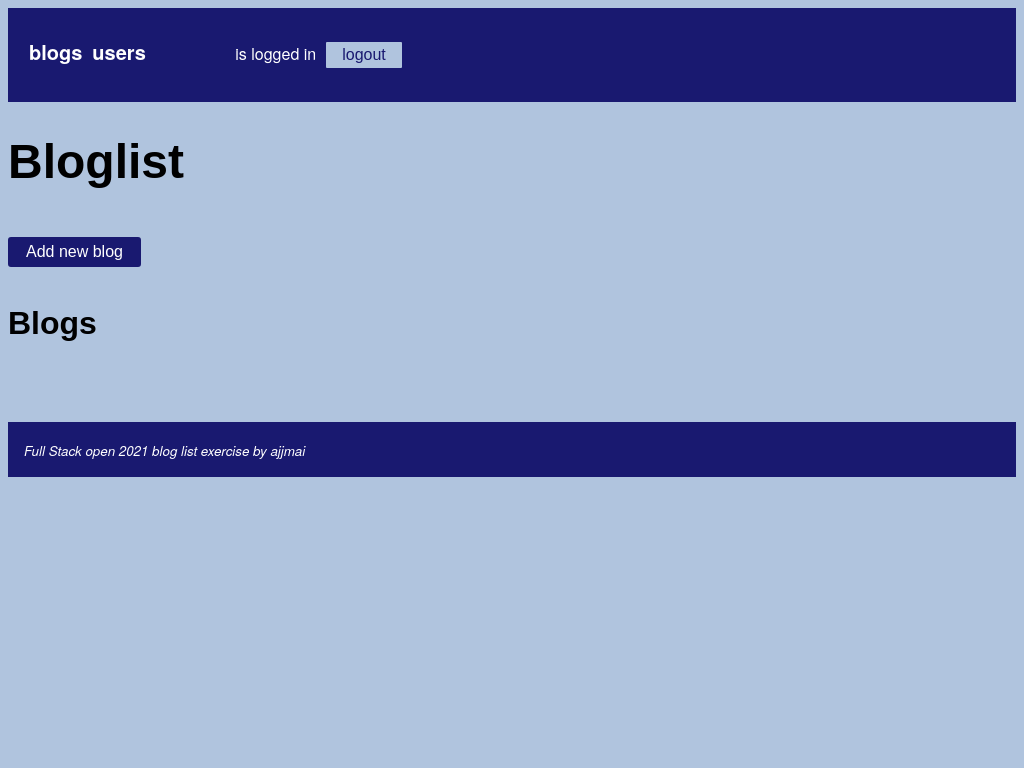
it: Blog app › When logged in › A blog can be created
The image size is (1024, 768).
Click the button "Add new blog" at (75, 252), box [8,237,141,267]
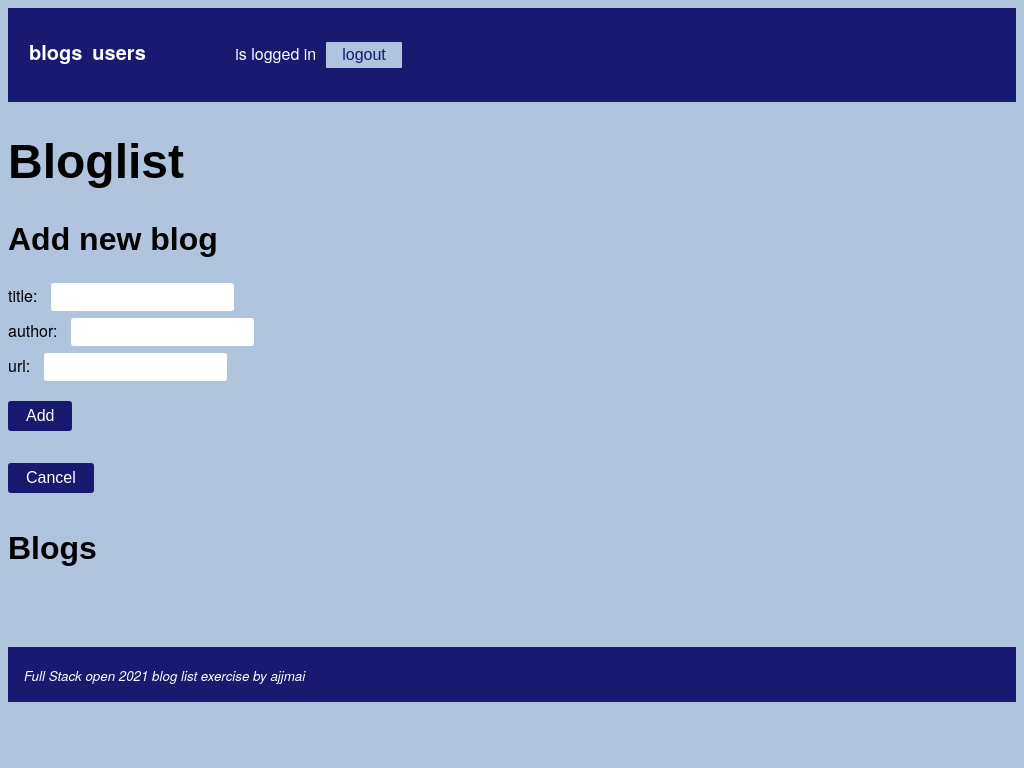
Type "React patterns" into the field named "Title" next to "title:" at (143, 297), box [51,283,235,311]
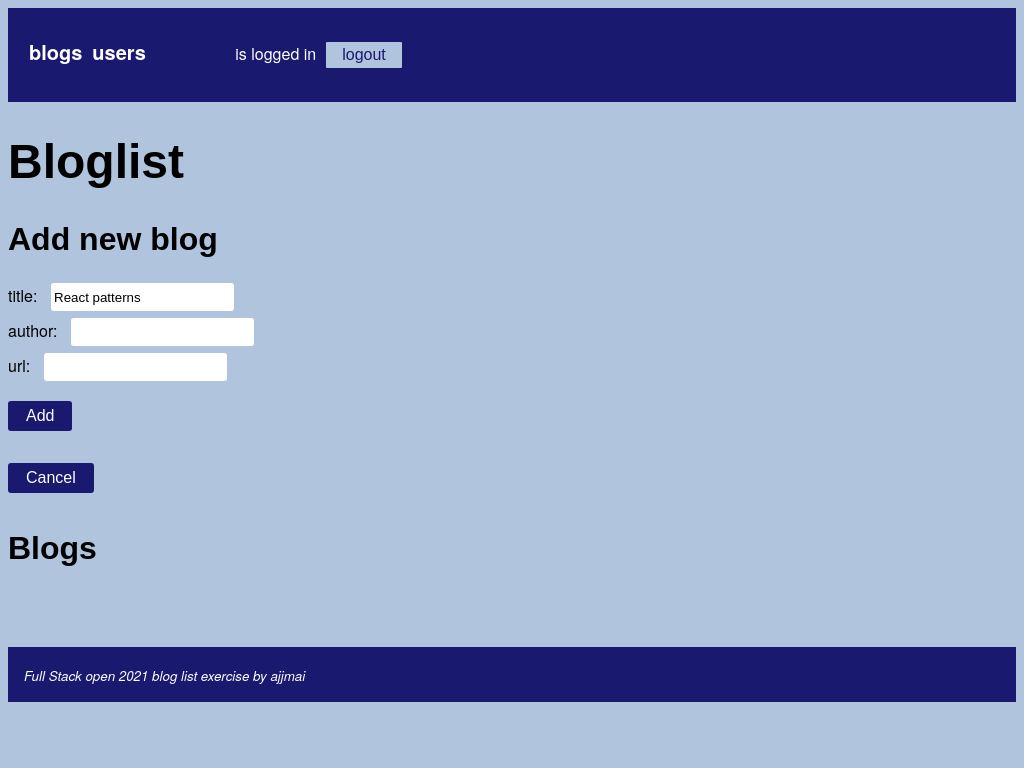
Type "Michael Chan" into the field named "Author" next to "author:" at (163, 332), box [71,318,255,346]
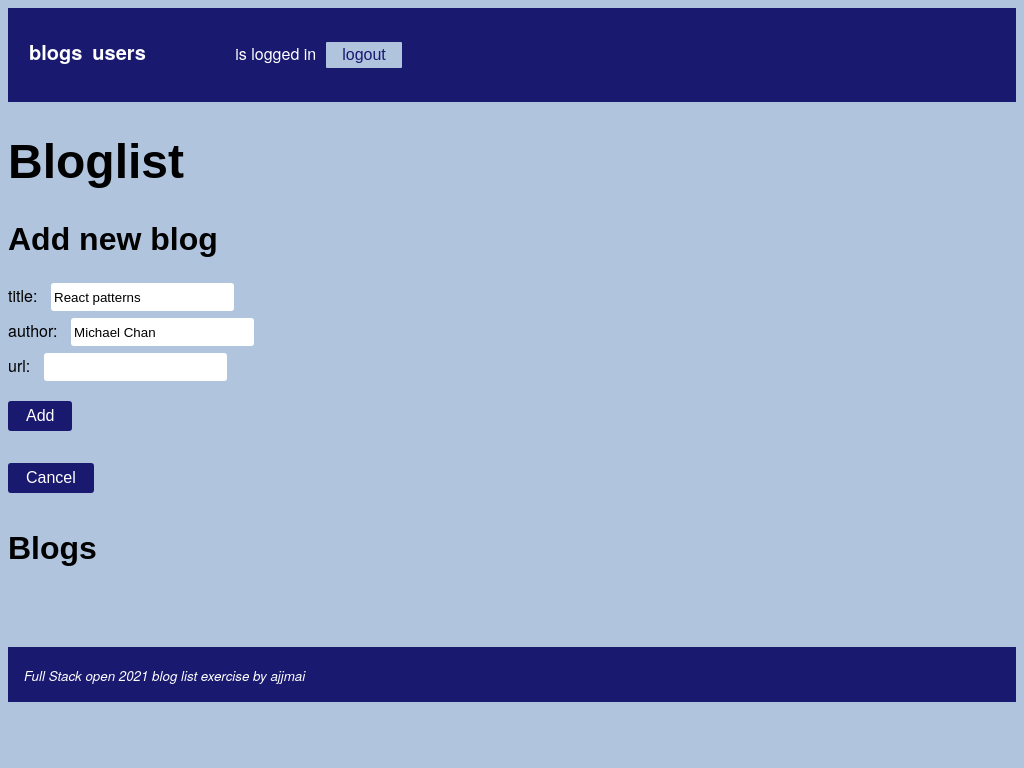
Type "https://reactpatterns.com/" into the field named "Url" next to "url:" at (136, 367), box [44,353,228,381]
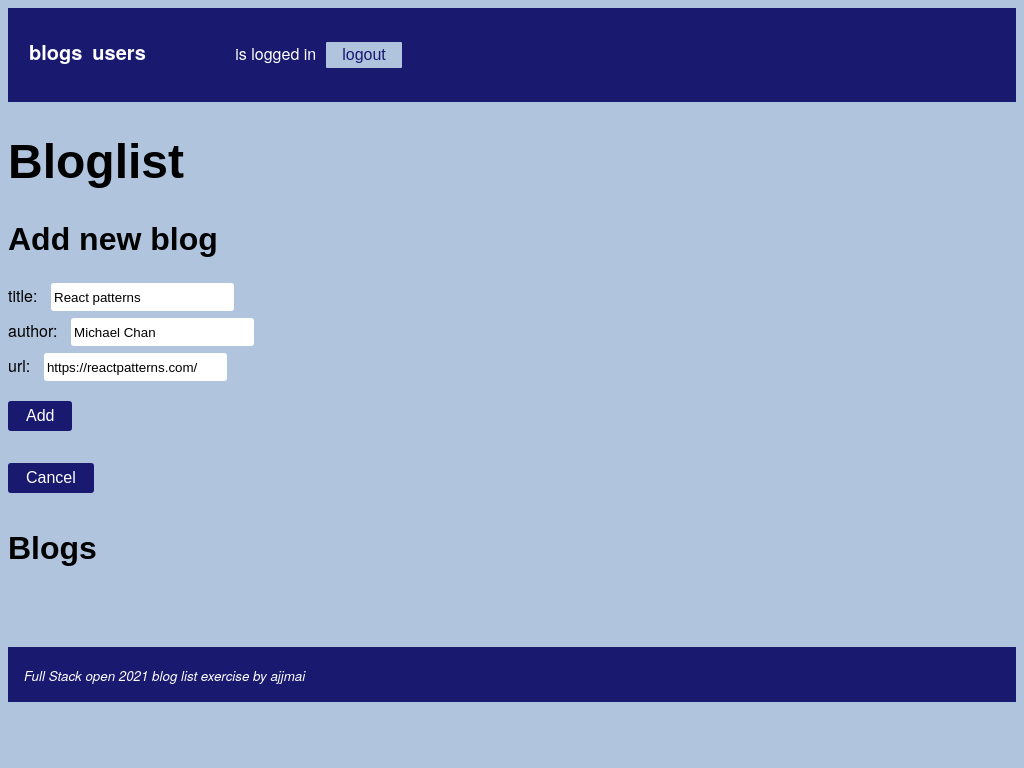
Click the button "Add" at (41, 416), box [8,401,73,431]
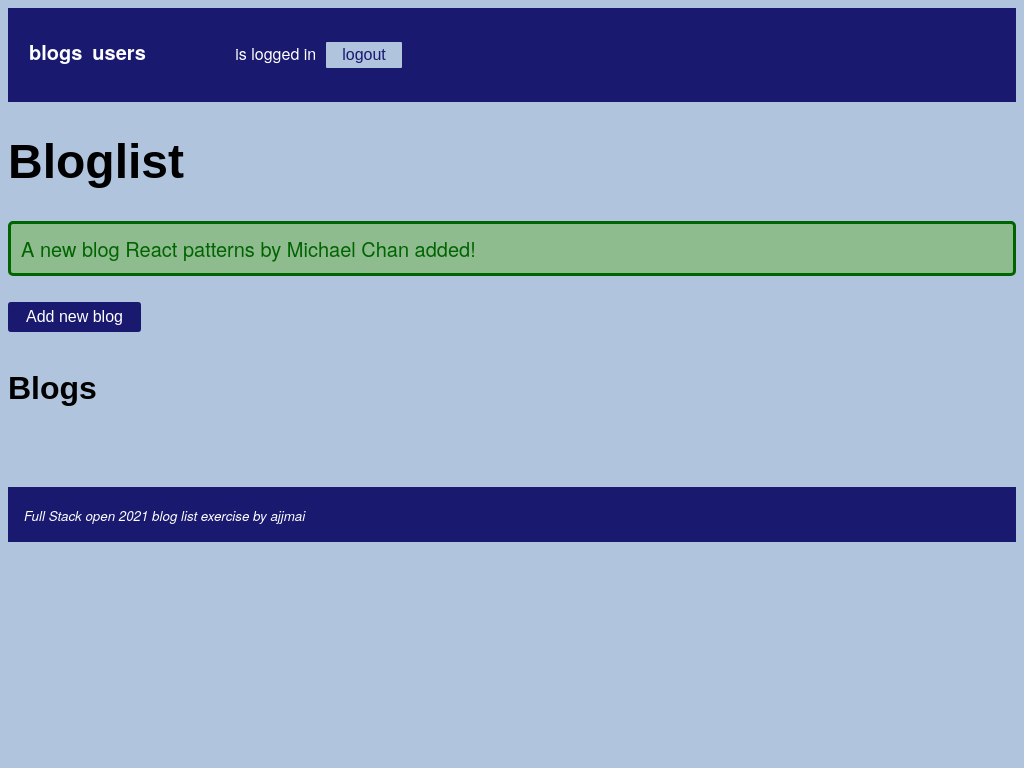
Expected: the text "React patterns" is shown, [21,234,476,263]
